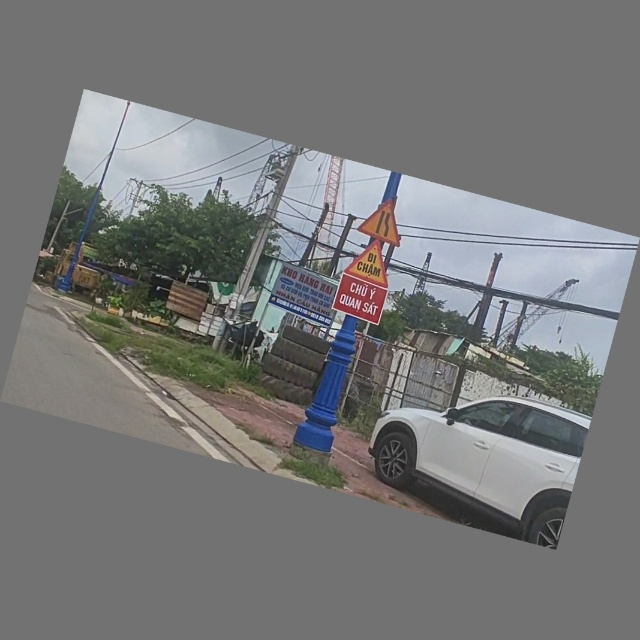W.203c: (356, 192, 413, 248)
W.245a: (343, 235, 400, 289)
